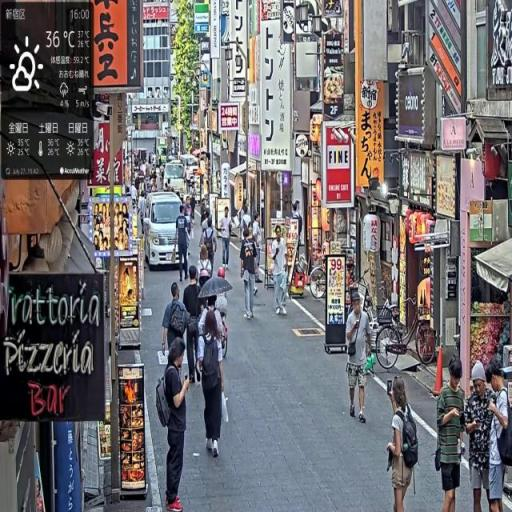person: (162, 337, 193, 512), (198, 300, 227, 461), (345, 291, 374, 424), (161, 280, 196, 383), (184, 266, 205, 386), (269, 227, 289, 319), (241, 228, 259, 321), (176, 206, 192, 284), (219, 205, 234, 271)
